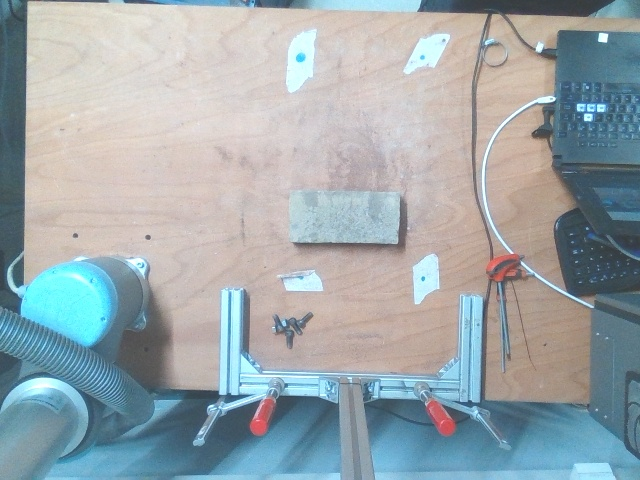brick: (290, 189, 401, 243)
